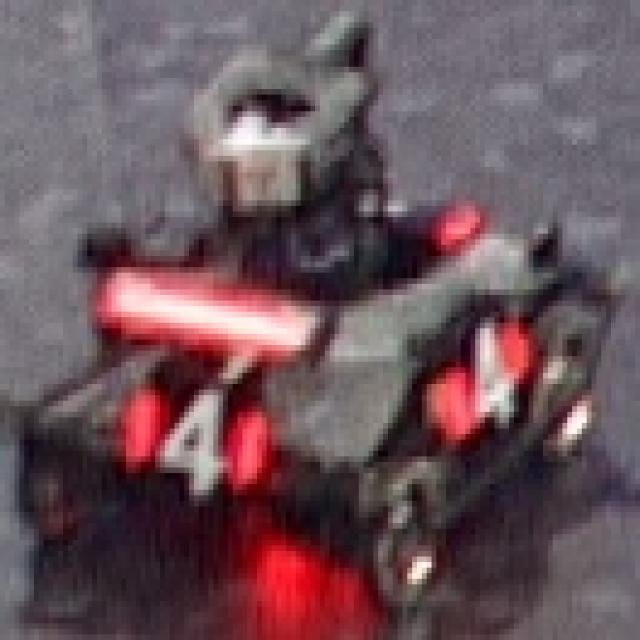R4: (100, 378, 284, 506), (424, 286, 541, 464)
